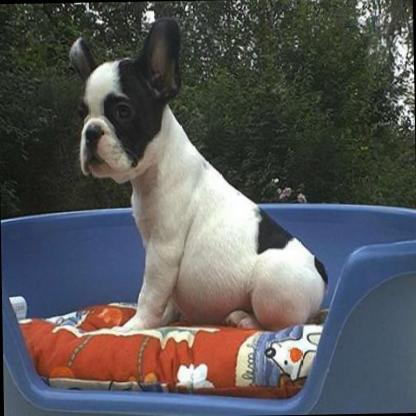boxer: (66, 12, 328, 332)
